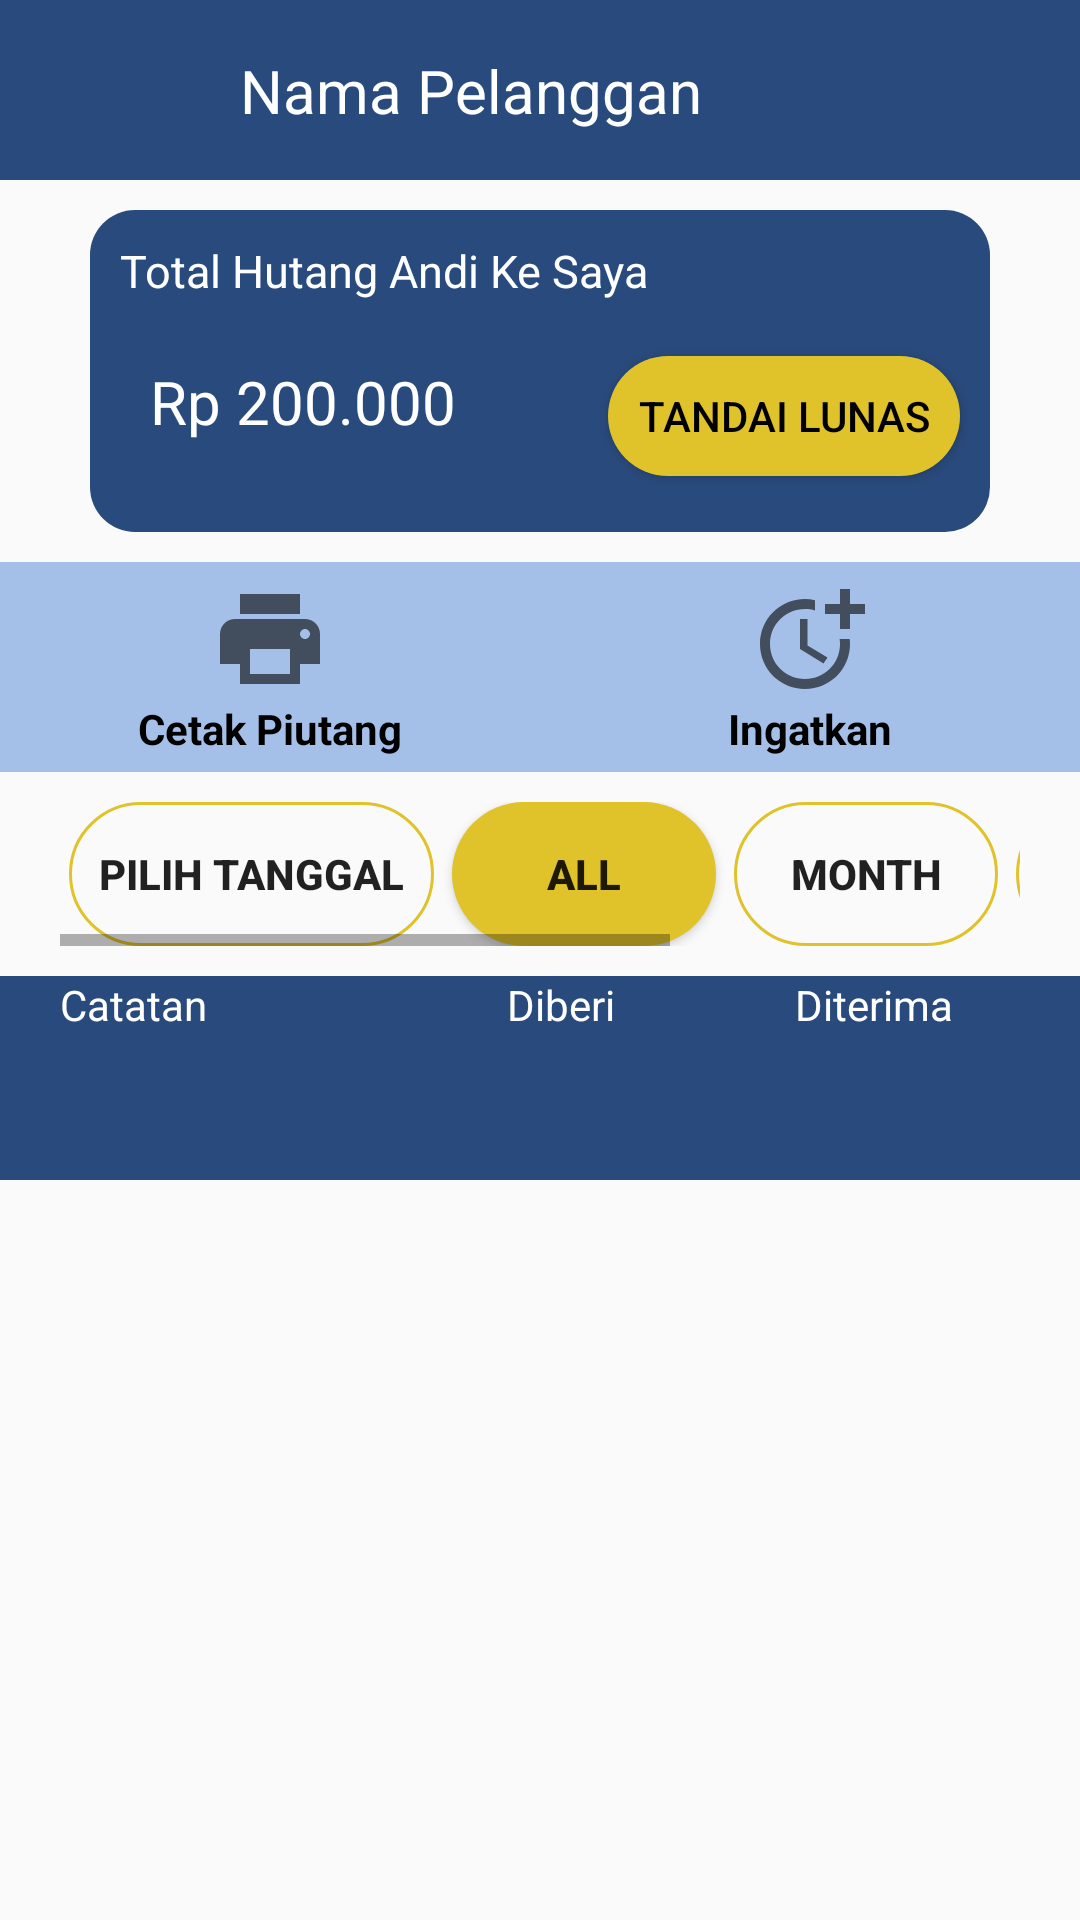

Screen size 1080w x 1920h. Icon name, then its box in pixels as rect(x1, y1, x2, y2):
time: rect(760, 589, 865, 689)
